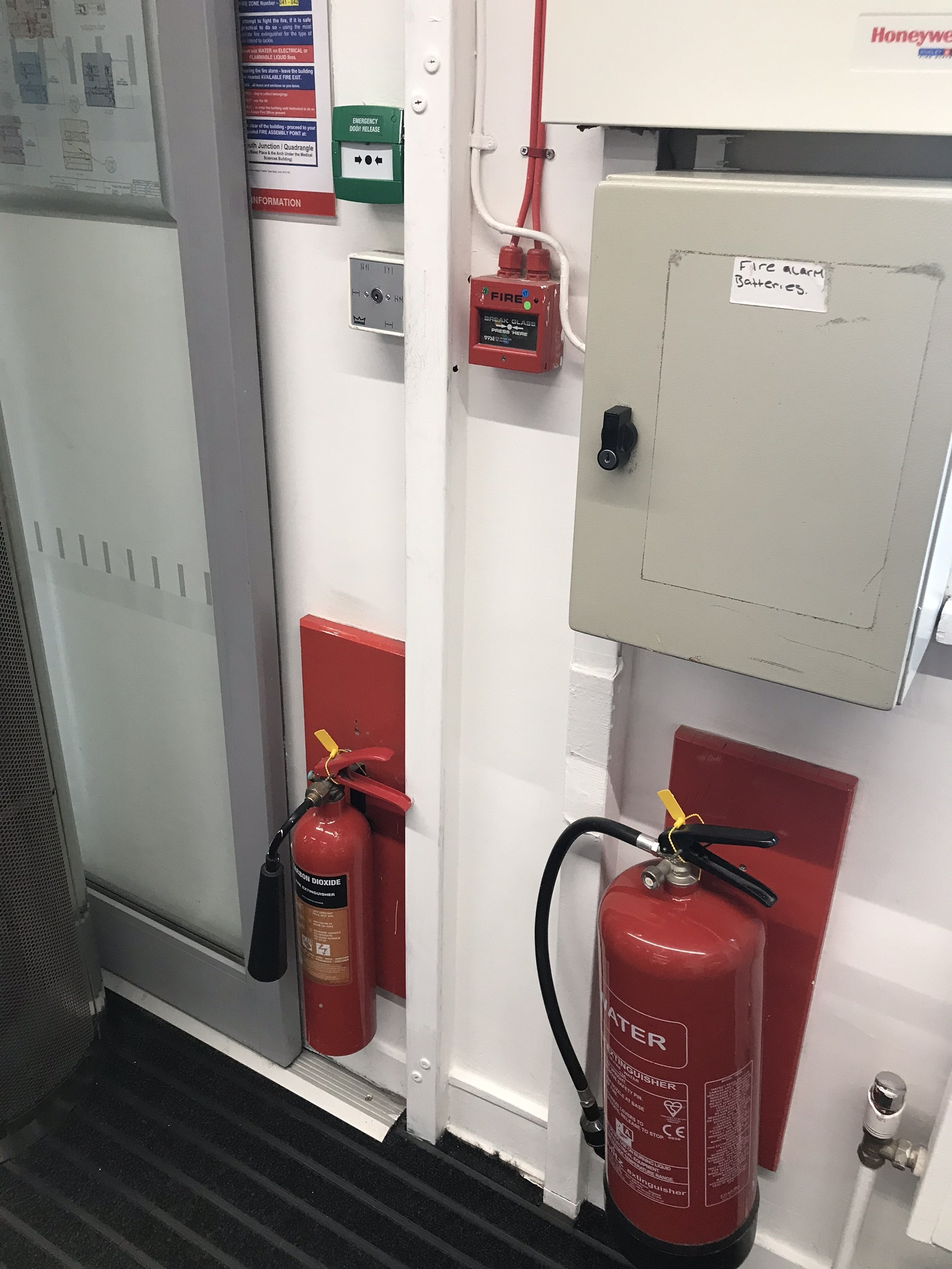fire_extinguisher: (534, 788, 780, 1267), (246, 729, 411, 1058)
